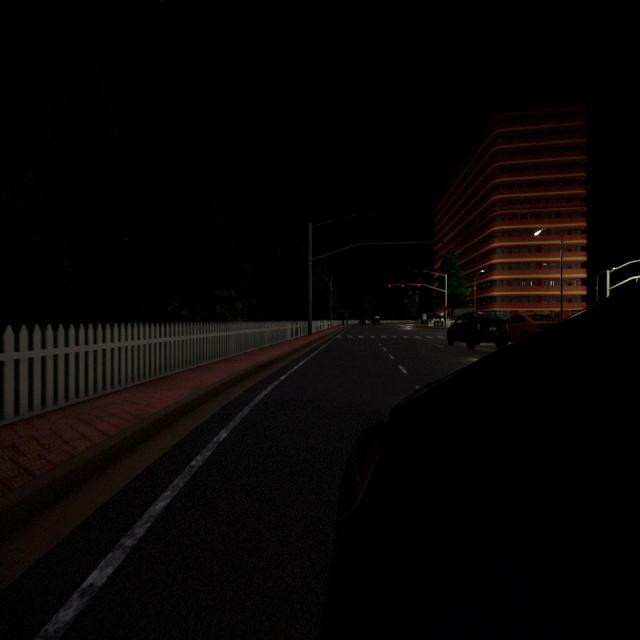Vehicle: (323, 282, 640, 640), (447, 312, 508, 351), (508, 311, 560, 343)
traffic_light: (388, 284, 391, 288), (444, 304, 446, 310), (402, 284, 404, 287), (418, 284, 420, 287)
